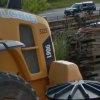Tractor: (4, 3, 89, 97)
